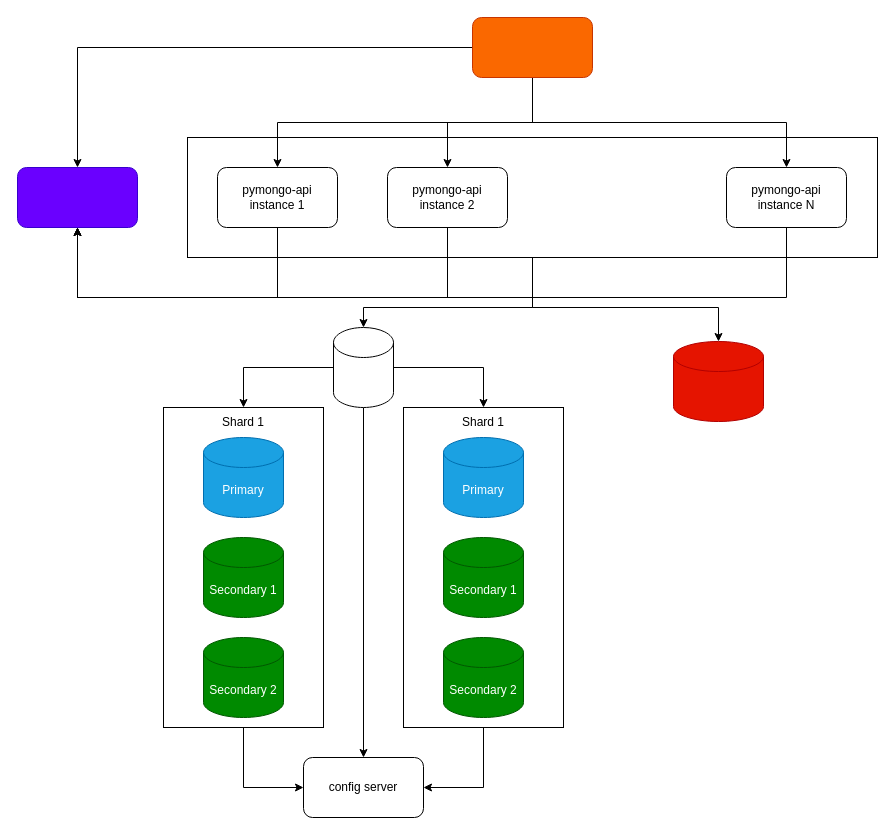
The diagram is 895 pixels wide and 835 high, and some of its shapes have lost their labels. The centre of each missing label's shape, as x and y in pixels:
"API Gateway" belongs at [532,47].
"Consul" belongs at [77,197].
"mongos router" belongs at [363,367].
"Redis" belongs at [718,381].
